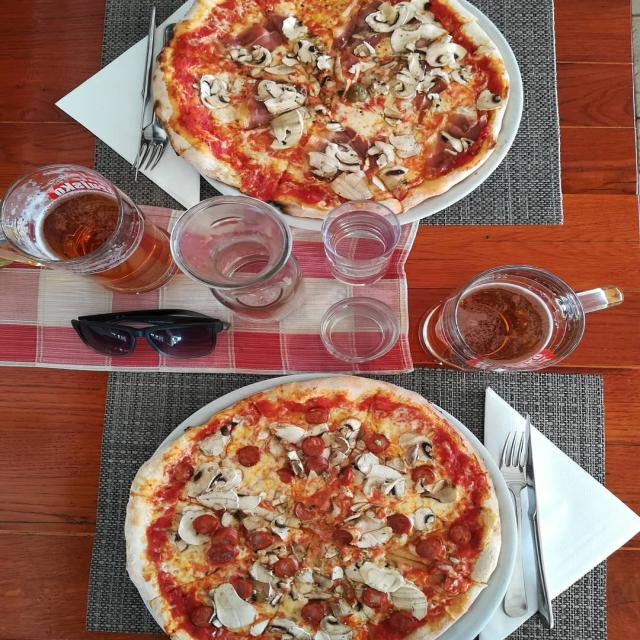mushrooms: (188, 461, 266, 513), (278, 10, 344, 70), (206, 582, 267, 626), (355, 452, 409, 500), (338, 555, 407, 592), (387, 20, 457, 55), (368, 130, 419, 175), (317, 130, 363, 176), (365, 1, 422, 37), (176, 500, 216, 550), (261, 107, 306, 151), (347, 512, 400, 548), (256, 77, 309, 113), (384, 56, 436, 92), (383, 583, 430, 621), (290, 567, 340, 602), (401, 430, 446, 468), (327, 162, 372, 199), (196, 72, 236, 110), (244, 554, 286, 590), (329, 412, 362, 457), (267, 490, 295, 543), (302, 140, 336, 182), (432, 122, 473, 156), (202, 418, 239, 455), (262, 612, 310, 640), (350, 39, 383, 77), (230, 40, 269, 71), (306, 614, 350, 640), (425, 43, 469, 69), (407, 503, 438, 532), (282, 443, 311, 474), (422, 478, 456, 503), (473, 85, 505, 111), (271, 421, 302, 444), (320, 114, 344, 133)
pepperoni: (192, 513, 243, 570), (188, 603, 234, 634), (303, 432, 330, 477), (355, 583, 395, 609), (411, 463, 442, 494), (237, 442, 270, 471), (223, 575, 259, 601), (295, 598, 329, 624), (385, 509, 414, 539), (447, 518, 476, 548), (418, 533, 443, 565), (271, 554, 299, 580), (329, 523, 355, 550), (291, 500, 318, 526), (271, 459, 298, 484), (391, 608, 418, 632), (300, 405, 331, 425), (248, 528, 270, 553)
pizza: (123, 375, 505, 640), (149, 0, 520, 221)
